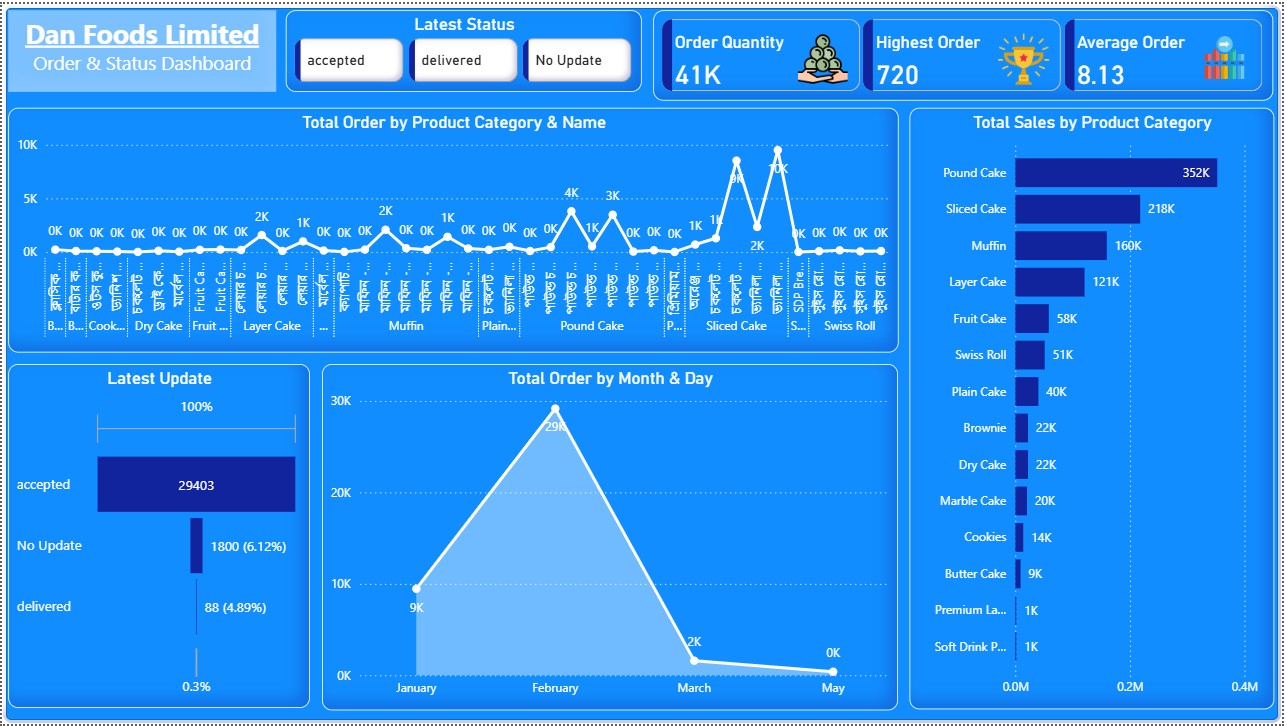

The page's visual inventory and layout, read from the dashboard file:
{"tool":"powerbi","page":{"name":"Order & Status Dashboard  KPIs / Cards","canvas":[1280,720],"ordinal":2},"visuals":[{"type":"shape","box":[0,0,1280,720],"z":0},{"type":"textbox","box":[6.1,6.1,267.8,81.9],"z":1000},{"type":"lineChart","title":"Total Order by Product Category & Name","fields":{"Category":["Analytics Data json.product_category_name","Analytics Data json.product_name"],"Y":["Sum(Analytics Data json.order_qty)"]},"box":[6.1,103.9,890.2,244.6],"z":2000},{"type":"areaChart","title":"Total Order by Month & Day","fields":{"Y":["Sum(Analytics Data json.order_qty)"],"Category":["Analytics Data json.order_date.Variation.Date Hierarchy.Month","Analytics Data json.order_date.Variation.Date Hierarchy.Day"]},"box":[320.4,359.5,576,346.1],"z":3000},{"type":"clusteredBarChart","title":"Total Sales by Product Category","fields":{"Category":["Analytics Data json.product_category_name"],"Y":["Sum(Analytics Data json.amount)"]},"box":[907.3,103.9,364.4,601.6],"z":4000},{"type":"funnel","title":"Latest Update","fields":{"Category":["Analytics Data json.latest_status"],"Y":["Sum(Analytics Data json.order_qty)"]},"box":[6.2,360,301.2,343.8],"z":5000},{"type":"advancedSlicerVisual","title":"Latest Status","fields":{"Values":["Analytics Data json.latest_status"]},"box":[283.7,6.1,355.8,81.9],"z":6000},{"type":"cardVisual","fields":{"Data":["Sum(Analytics Data json.order_qty)","Analytics Data json.Highest_0rder","Analytics Data json.Average_order"]},"box":[651.8,6.1,620,90.5],"z":7000}]}

Visuals, with their boxes in screenshot pixels (x1, y1, x2, y2), scaled from the page's 1280x720 canvas onto the 1287x726 screenshot:
shape: BBox(0, 0, 1286, 725)
textbox: BBox(6, 6, 275, 89)
"Total Order by Product Category & Name" lineChart: BBox(6, 105, 901, 351)
"Total Order by Month & Day" areaChart: BBox(322, 362, 901, 711)
"Total Sales by Product Category" clusteredBarChart: BBox(912, 105, 1279, 711)
"Latest Update" funnel: BBox(6, 363, 309, 710)
"Latest Status" advancedSlicerVisual: BBox(285, 6, 643, 89)
cardVisual - Sum(Analytics Data json.order_qty) x Analytics Data json.Highest_0rder: BBox(655, 6, 1279, 97)
